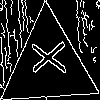X: (23, 40, 66, 76)
